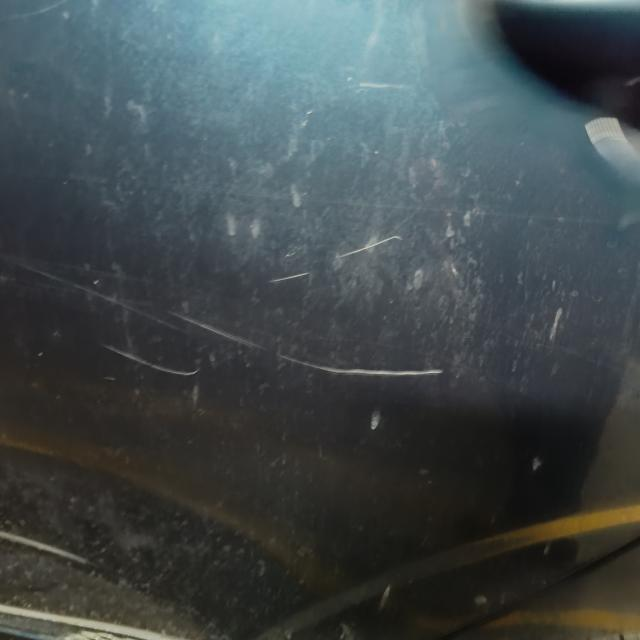scratch: (162, 312, 294, 361), (94, 342, 200, 383), (298, 359, 446, 384), (329, 234, 404, 260), (352, 70, 407, 99), (262, 264, 316, 289)
